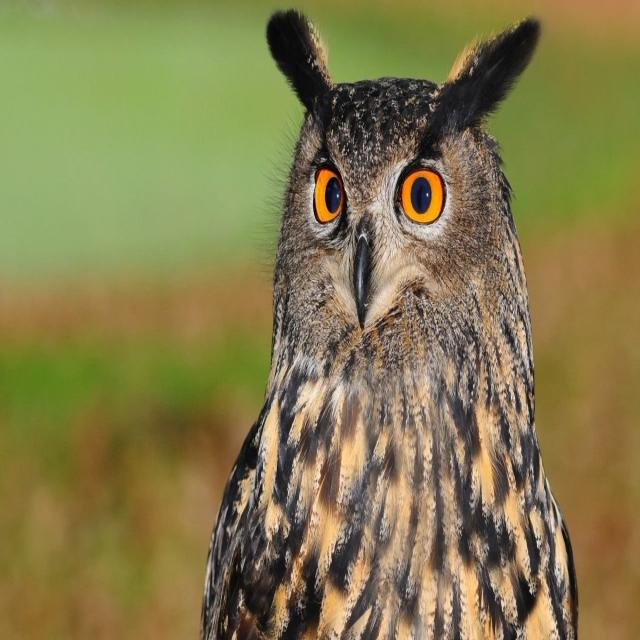Owl: (196, 6, 582, 640)
